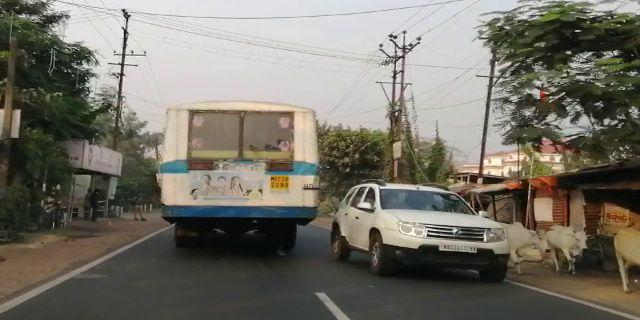Bus: (151, 94, 325, 261)
Car: (330, 170, 517, 287)
